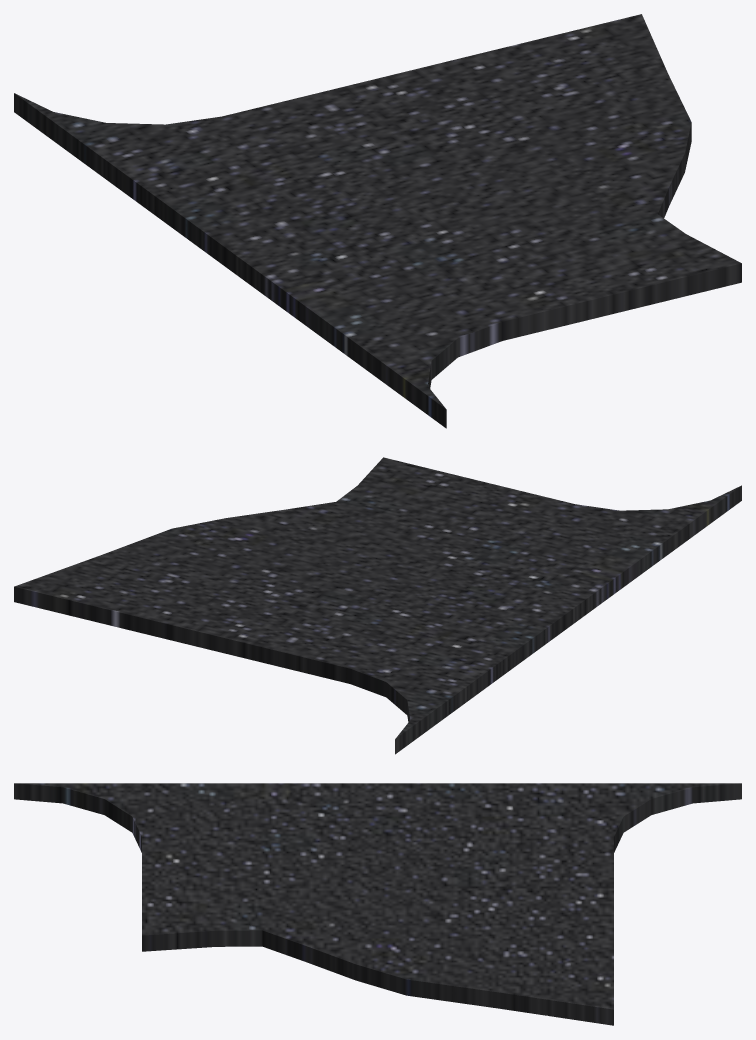
3 renders of one model, top to bottom at view 1: azimuth 30°, elevation 25°; view 2: azimuth 150°, elevation 25°; view 3: azimuth 270°, elevation 25°, orthographic. The views are drawn at different scales.
Parts seen in each view (by area): view 1: L2_Z10_P1_sh_54, L2_Z10_P1_sh_114, L2_Z10_P1_sh_101, L2_Z10_P1_sh_187, L2_Z10_P1_sh_47, L2_Z10_P1_sh_9, L2_Z10_P1_sh_170, L2_Z10_P1_sh_87, L2_Z10_P1_sh_110, L2_Z10_P1_sh_153, L2_Z10_P1_sh_133, L2_Z10_P1_sh_4 (+92 smaller); view 2: L2_Z10_P1_sh_54, L2_Z10_P1_sh_114, L2_Z10_P1_sh_101, L2_Z10_P1_sh_187, L2_Z10_P1_sh_47, L2_Z10_P1_sh_110, L2_Z10_P1_sh_9, L2_Z10_P1_sh_170, L2_Z10_P1_sh_98, L2_Z10_P1_sh_87, L2_Z10_P1_sh_153, L2_Z10_P1_sh_133 (+75 smaller); view 3: L2_Z10_P1_sh_47, L2_Z10_P1_sh_187, L2_Z10_P1_sh_110, L2_Z10_P1_sh_114, L2_Z10_P1_sh_82, L2_Z10_P1_sh_9, L2_Z10_P1_sh_54, L2_Z10_P1_sh_170, L2_Z10_P1_sh_44, L2_Z10_P1_sh_87, L2_Z10_P1_sh_36, L2_Z10_P1_sh_52 (+102 smaller).
Boxes of the visible parts, x1,y1,x2,y2 form: L2_Z10_P1_sh_54: (301,303,390,373); L2_Z10_P1_sh_114: (242,246,310,318); L2_Z10_P1_sh_101: (61,124,140,187); L2_Z10_P1_sh_187: (319,285,434,321); L2_Z10_P1_sh_47: (381,358,446,428); L2_Z10_P1_sh_9: (403,84,491,118); L2_Z10_P1_sh_170: (307,200,371,243); L2_Z10_P1_sh_87: (417,233,490,267); L2_Z10_P1_sh_110: (86,121,172,161); L2_Z10_P1_sh_153: (371,324,429,380); L2_Z10_P1_sh_133: (381,110,458,140); L2_Z10_P1_sh_4: (577,285,643,320); L2_Z10_P1_sh_54: (618,529,682,585); L2_Z10_P1_sh_114: (534,574,621,620); L2_Z10_P1_sh_101: (417,674,480,725); L2_Z10_P1_sh_187: (557,533,620,565); L2_Z10_P1_sh_47: (667,485,741,538); L2_Z10_P1_sh_110: (394,670,456,716); L2_Z10_P1_sh_9: (202,594,267,620); L2_Z10_P1_sh_170: (441,576,505,605); L2_Z10_P1_sh_98: (247,618,297,663); L2_Z10_P1_sh_87: (437,532,500,560); L2_Z10_P1_sh_153: (623,512,689,543); L2_Z10_P1_sh_133: (262,590,314,621); L2_Z10_P1_sh_47: (14,783,122,815); L2_Z10_P1_sh_187: (191,788,255,827); L2_Z10_P1_sh_110: (570,792,658,825); L2_Z10_P1_sh_114: (269,783,368,806); L2_Z10_P1_sh_82: (657,783,723,813); L2_Z10_P1_sh_9: (514,895,576,928); L2_Z10_P1_sh_54: (141,783,257,802); L2_Z10_P1_sh_170: (337,819,423,842); L2_Z10_P1_sh_44: (498,983,566,1015); L2_Z10_P1_sh_87: (246,844,313,870); L2_Z10_P1_sh_36: (255,918,316,955); L2_Z10_P1_sh_52: (289,923,342,963).
Size of the model in its own units: 1532 by 50.97 by 2081.
1 material, 1 textured.
